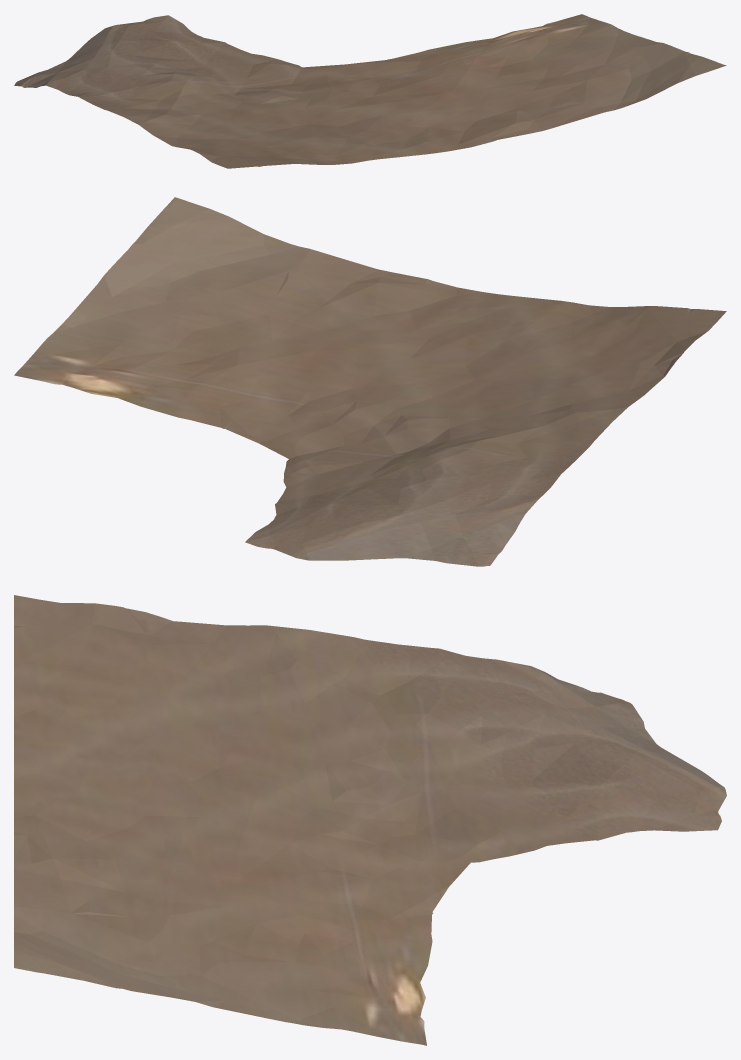
3 renders of one model, top to bottom at view 1: azimuth 30°, elevation 25°; view 2: azimuth 150°, elevation 25°; view 3: azimuth 270°, elevation 25°, orthographic. The views are drawn at different scales.
Bounding box in the file's own units: 1.04 × 0.1471 × 0.9086.
2 materials, 2 textured.
